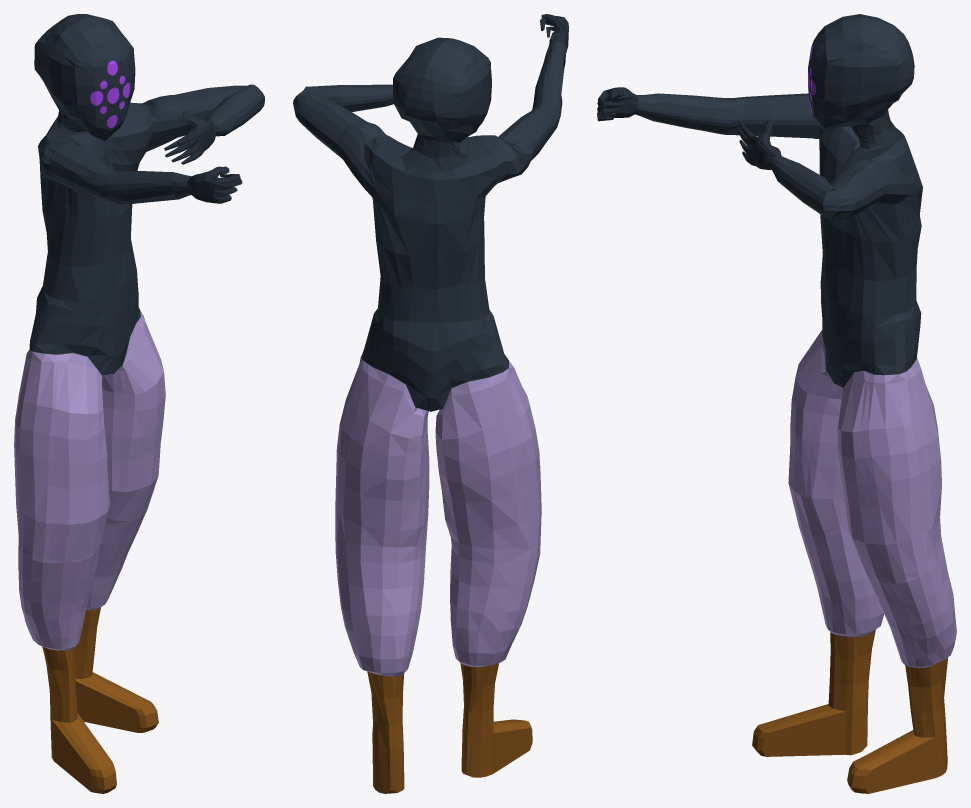
The model's file is Oracle_Attack_000032.obj.
3 renders of one model, left to right at view 1: azimuth 30°, elevation 25°; view 2: azimuth 150°, elevation 25°; view 3: azimuth 270°, elevation 25°, orthographic. The views are drawn at different scales.
Visible parts, largest first — view 1: Cube; view 2: Cube; view 3: Cube.
Part boxes in pixels (box(x1,y1,x2,y2)): Cube: box(14, 14, 264, 793); Cube: box(293, 14, 568, 793); Cube: box(597, 14, 956, 793).
Size of the model in its own units: 1.36 by 3.94 by 1.71.
